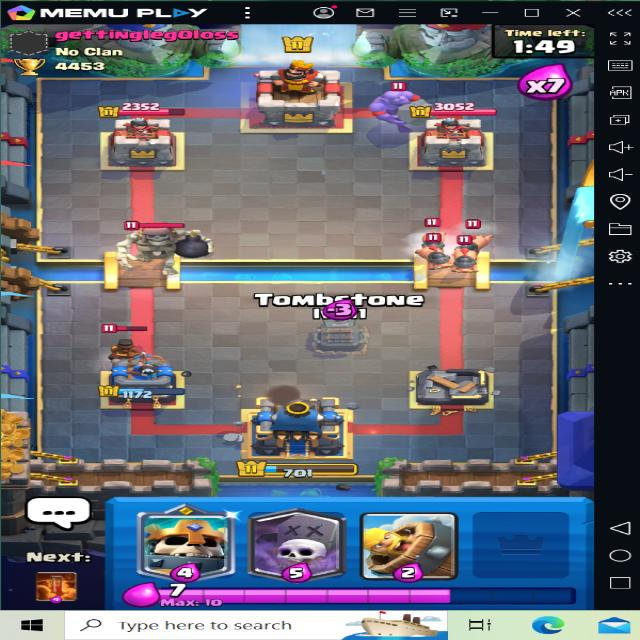Bowler: (371, 82, 444, 134)
Giantskeleton: (108, 209, 221, 268)
Ramrider: (96, 316, 160, 370)
Royalhogs: (416, 233, 450, 272), (462, 218, 492, 260), (446, 236, 476, 276), (419, 219, 444, 250)
